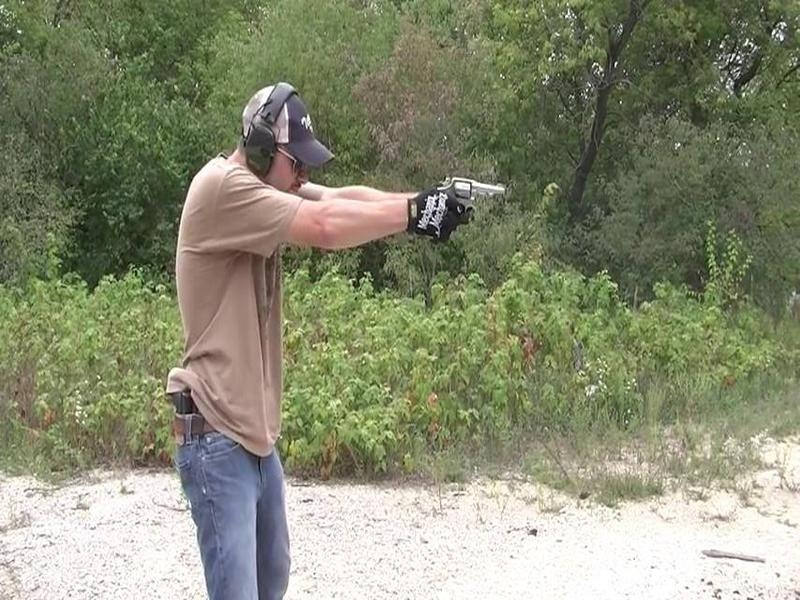Revolver: (435, 163, 511, 224)
